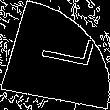L_W: (21, 34, 89, 76)
